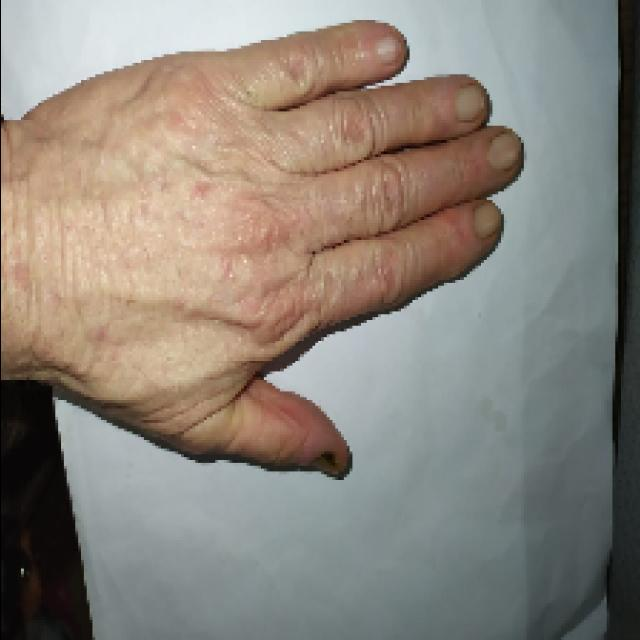Nail: (486, 132, 520, 170), (452, 84, 486, 121), (472, 201, 500, 238), (375, 35, 401, 62)
